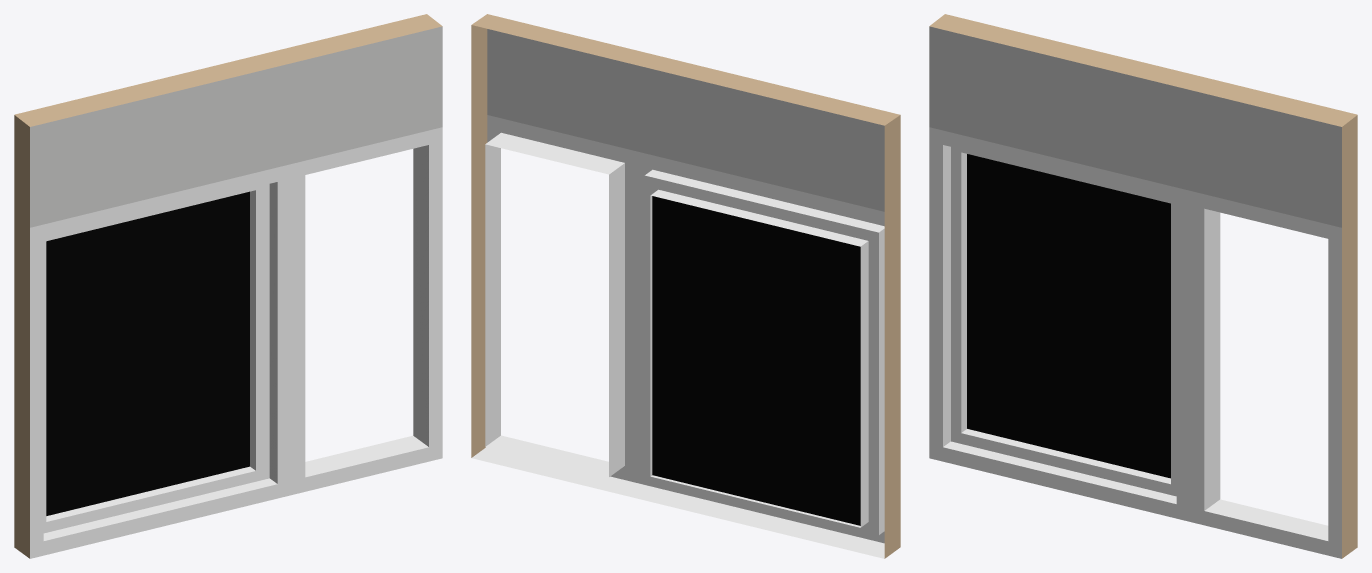
Rendered from buildings_house-wall-window-portal-door-3x3m.fbx.
3 renders of one model, left to right at view 1: azimuth 30°, elevation 25°; view 2: azimuth 150°, elevation 25°; view 3: azimuth 330°, elevation 25°, orthographic.
Visible parts, largest first — view 1: buildings_house_wall_window_portal_door_3x3m; view 2: buildings_house_wall_window_portal_door_3x3m; view 3: buildings_house_wall_window_portal_door_3x3m.
Boxes of the visible parts, <box> form: buildings_house_wall_window_portal_door_3x3m: <box>14,14,442,558</box>; buildings_house_wall_window_portal_door_3x3m: <box>471,14,900,558</box>; buildings_house_wall_window_portal_door_3x3m: <box>929,14,1357,558</box>.
Bounding box in the file's own units: 200 × 200 × 13.31.
4 materials, 1 textured.
